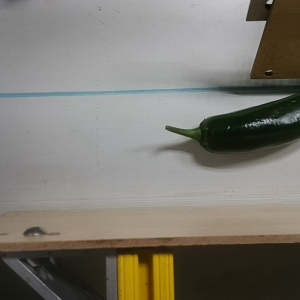Cut Point: (188, 115, 224, 153)
